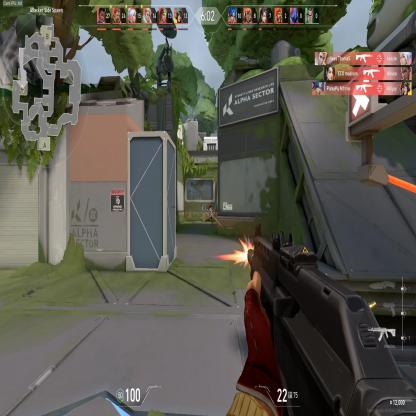enemy: (206, 202, 214, 225)
